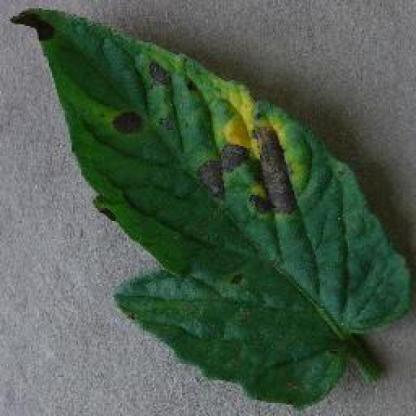Tomato_Blight: (13, 9, 414, 403)
